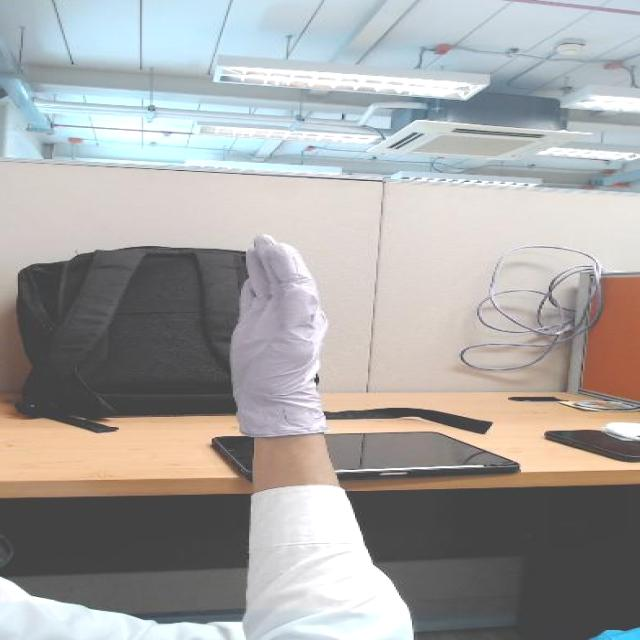glove: (169, 223, 372, 408)
